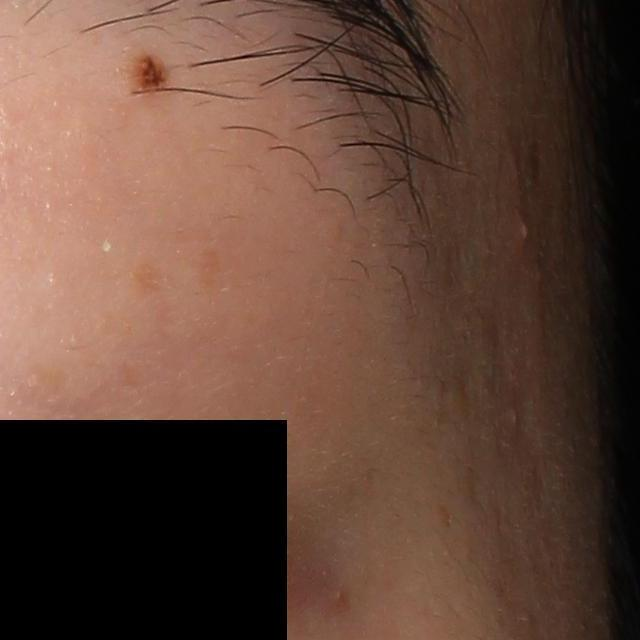melasma: (194, 245, 225, 307), (130, 258, 169, 302)
nevus: (124, 50, 172, 96)
